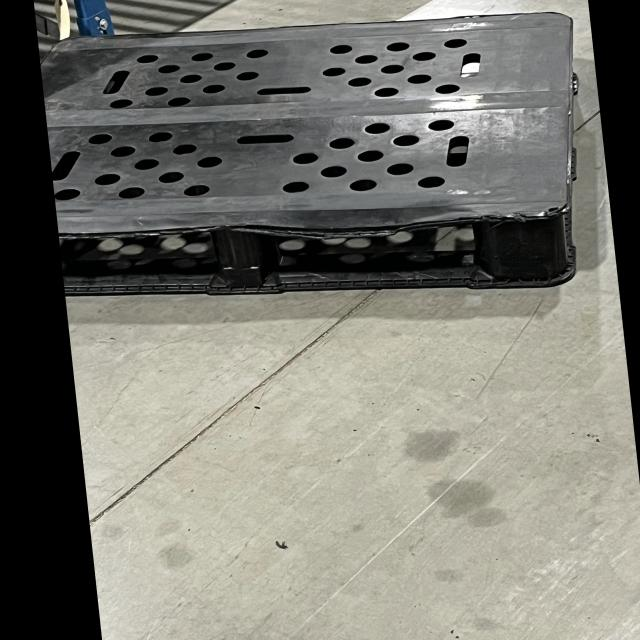igps: (31, 8, 590, 313)
